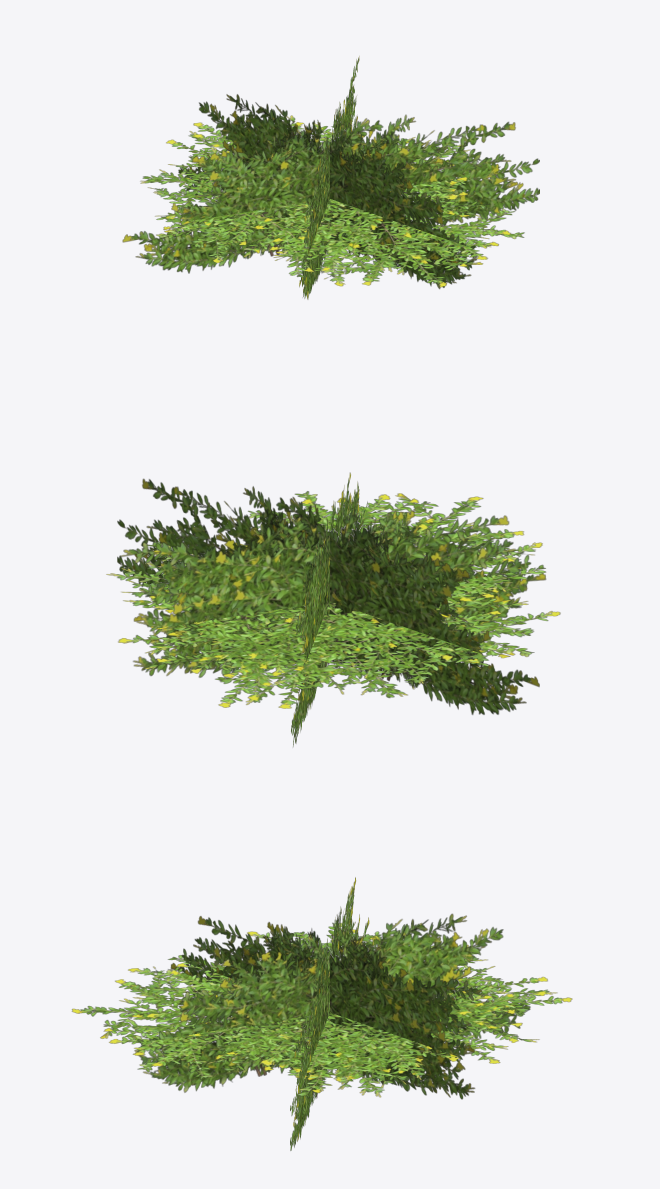
The model's file is Куст.glb.
3 renders of one model, top to bottom at view 1: azimuth 30°, elevation 25°; view 2: azimuth 150°, elevation 25°; view 3: azimuth 270°, elevation 25°, orthographic. The views are drawn at different scales.
Visible parts, largest first — view 1: maf.4530; view 2: maf.4530; view 3: maf.4530.
Boxes of the visible parts, x1,y1,x2,y2 form: maf.4530: [122, 56, 539, 299]; maf.4530: [106, 472, 560, 746]; maf.4530: [72, 877, 572, 1150].
Bounding box in the file's own units: 4.64 × 1.29 × 4.64.
Materials: 1 (1 with a texture image).
